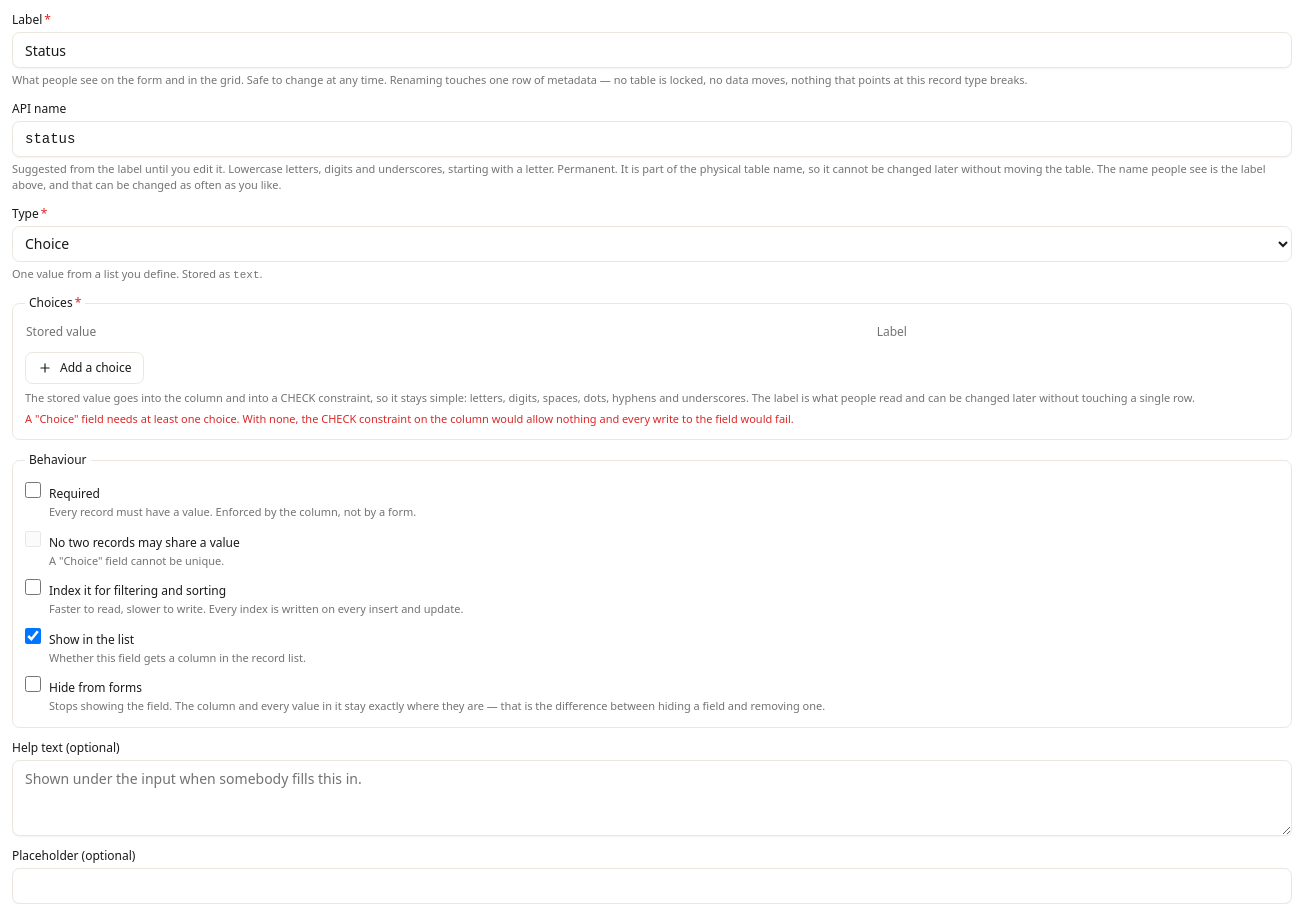
Scenario: Per-type configuration comes from the catalogue › asks for choices on a select and refuses one with none
Click the button "Add a choice": (85, 368) [25, 352, 144, 384]
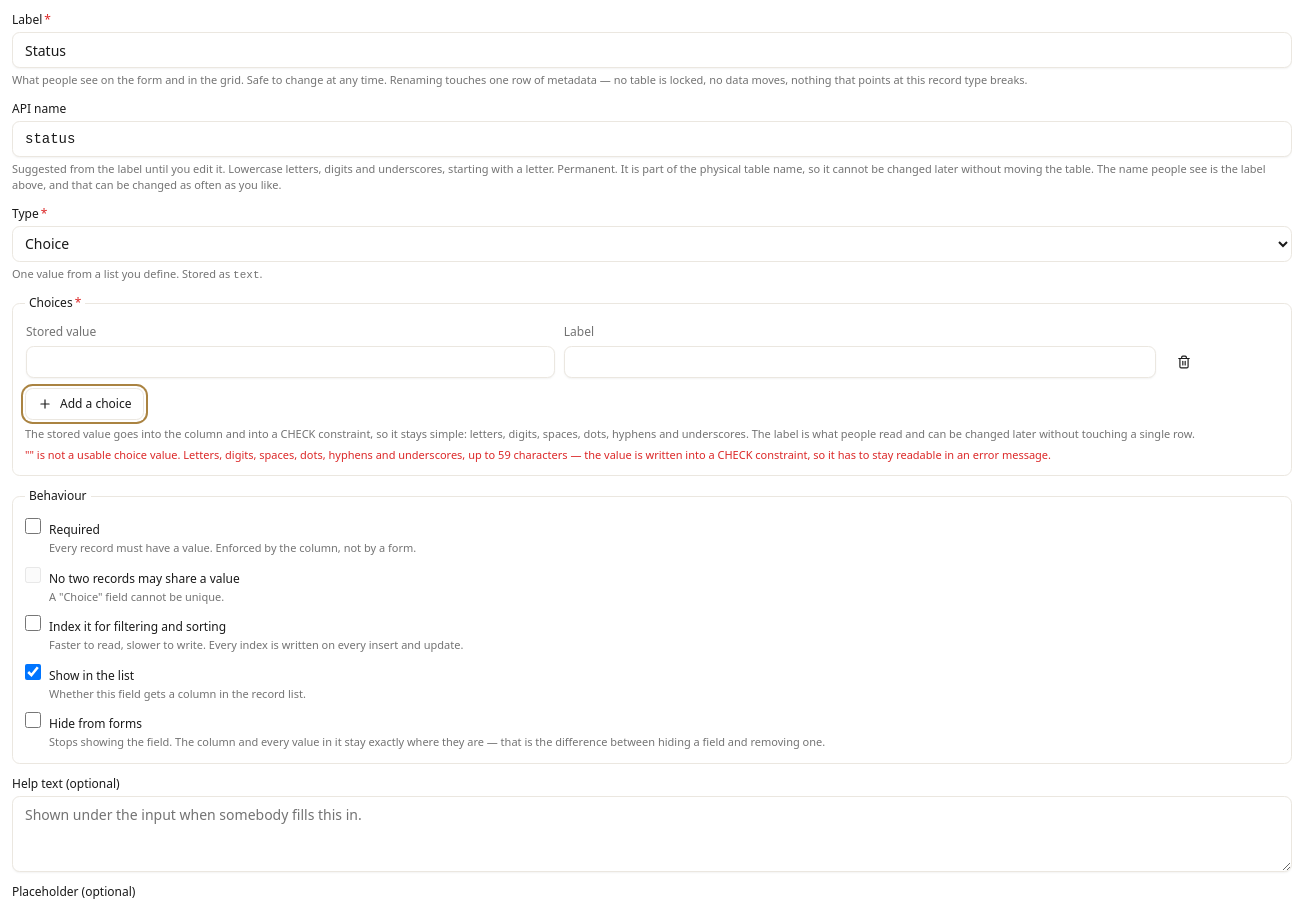
Expected: the field named "choice 1 stored value" is shown, [26, 346, 555, 378]
Expected: the field named "choice 1 label" is shown, [564, 346, 1156, 378]
